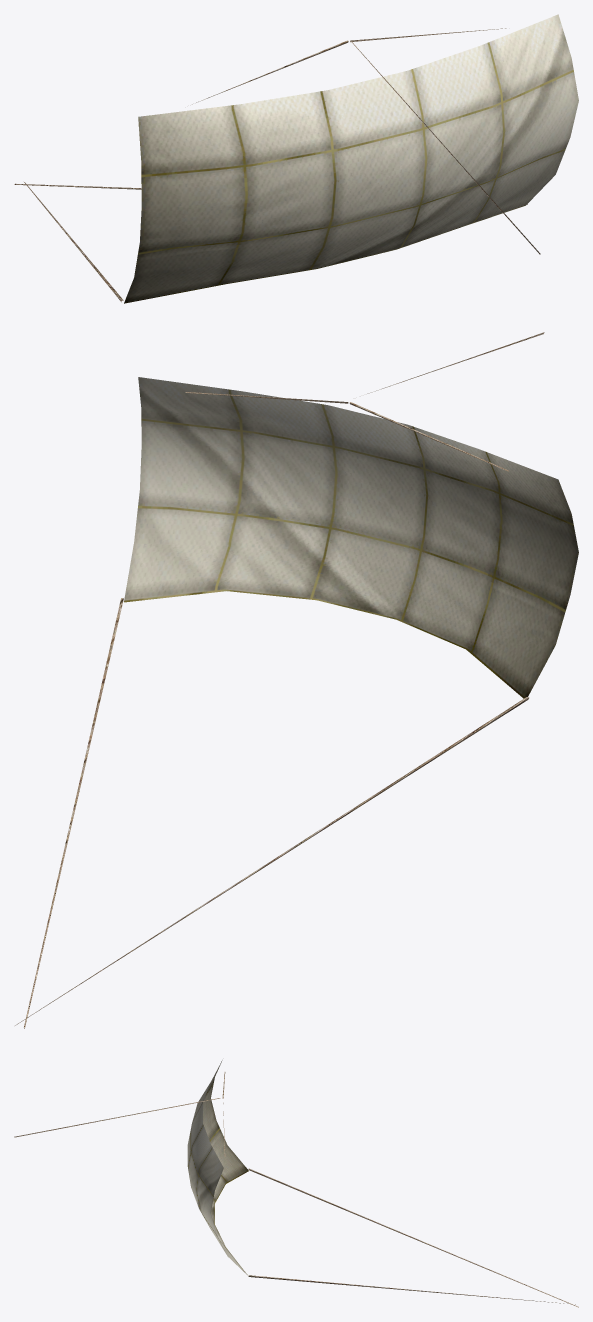
File: hele_trireme_foresail.glb
The picture shows the model from 3 angles, top to bottom: view 1: azimuth 30°, elevation 25°; view 2: azimuth 150°, elevation 25°; view 3: azimuth 270°, elevation 25°; orthographic projection. The views are drawn at different scales.
Parts seen in each view (by area): view 1: Plane_001; view 2: Plane_001; view 3: Plane_001.
Boxes of the visible parts, x1,y1,x2,y2 form: Plane_001: (14,14,578,303); Plane_001: (15,332,578,1028); Plane_001: (14,1060,578,1307).
Size of the model in its own units: 8.72 by 7.35 by 18.08.
1 material, 1 textured.
